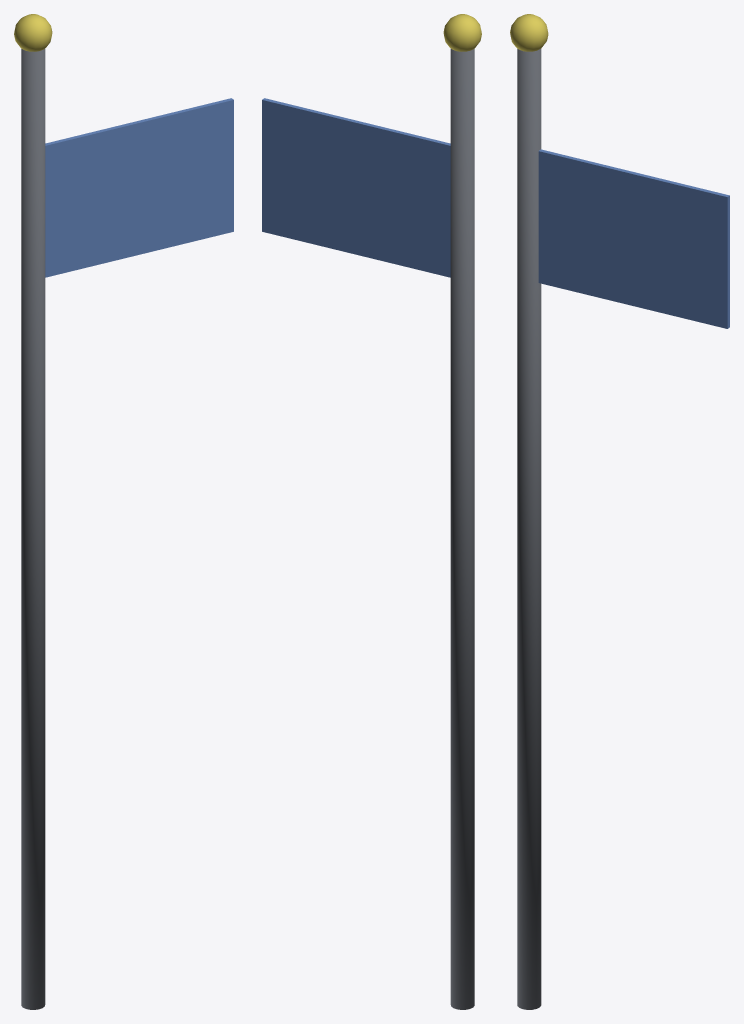
The model's file is prop_tate_poleflag_blue.glb.
The picture shows the model from 3 angles, left to right: view 1: azimuth 30°, elevation 25°; view 2: azimuth 150°, elevation 25°; view 3: azimuth 330°, elevation 25°; orthographic projection.
Visible parts, largest first — view 1: tate_poleflag_blue; view 2: tate_poleflag_blue; view 3: tate_poleflag_blue.
Boxes of the visible parts, box(x1,y1,x2,y2) form: tate_poleflag_blue: box(14, 14, 233, 1009); tate_poleflag_blue: box(262, 14, 481, 1009); tate_poleflag_blue: box(510, 14, 729, 1009).
Size of the model in its own units: 1.03 by 4.5 by 0.16.
